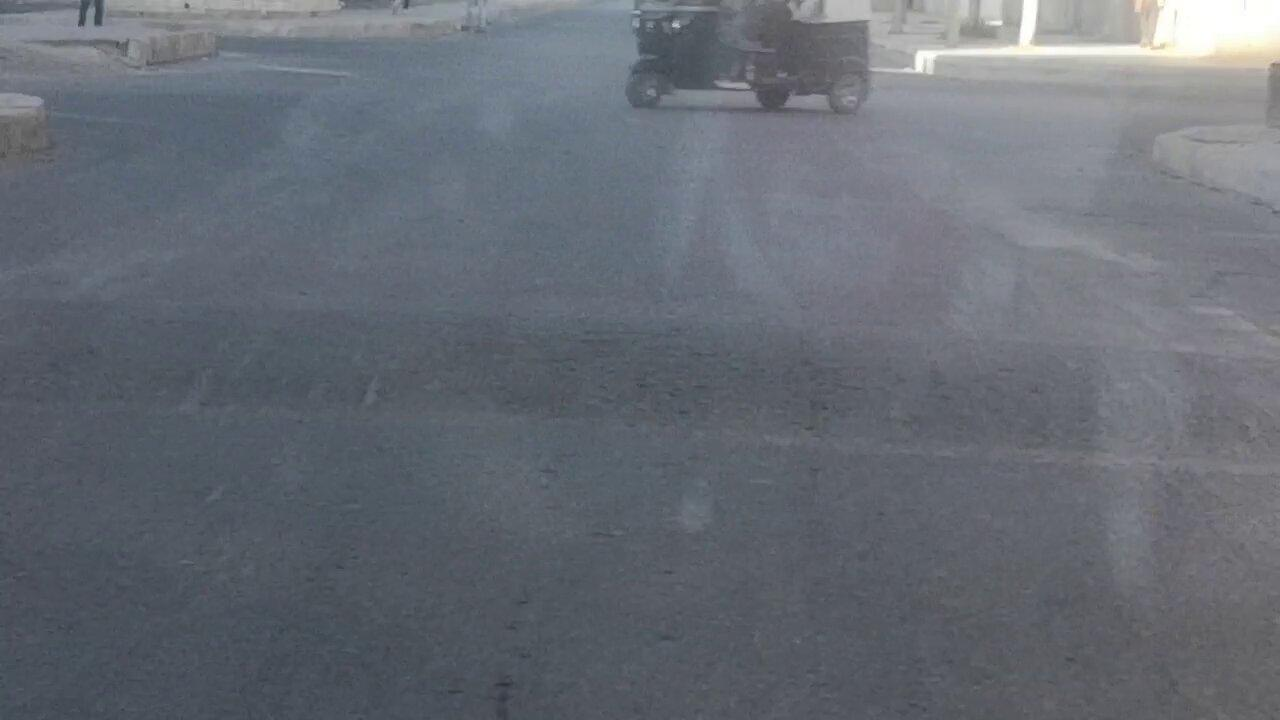Bump: (12, 287, 1248, 448)
